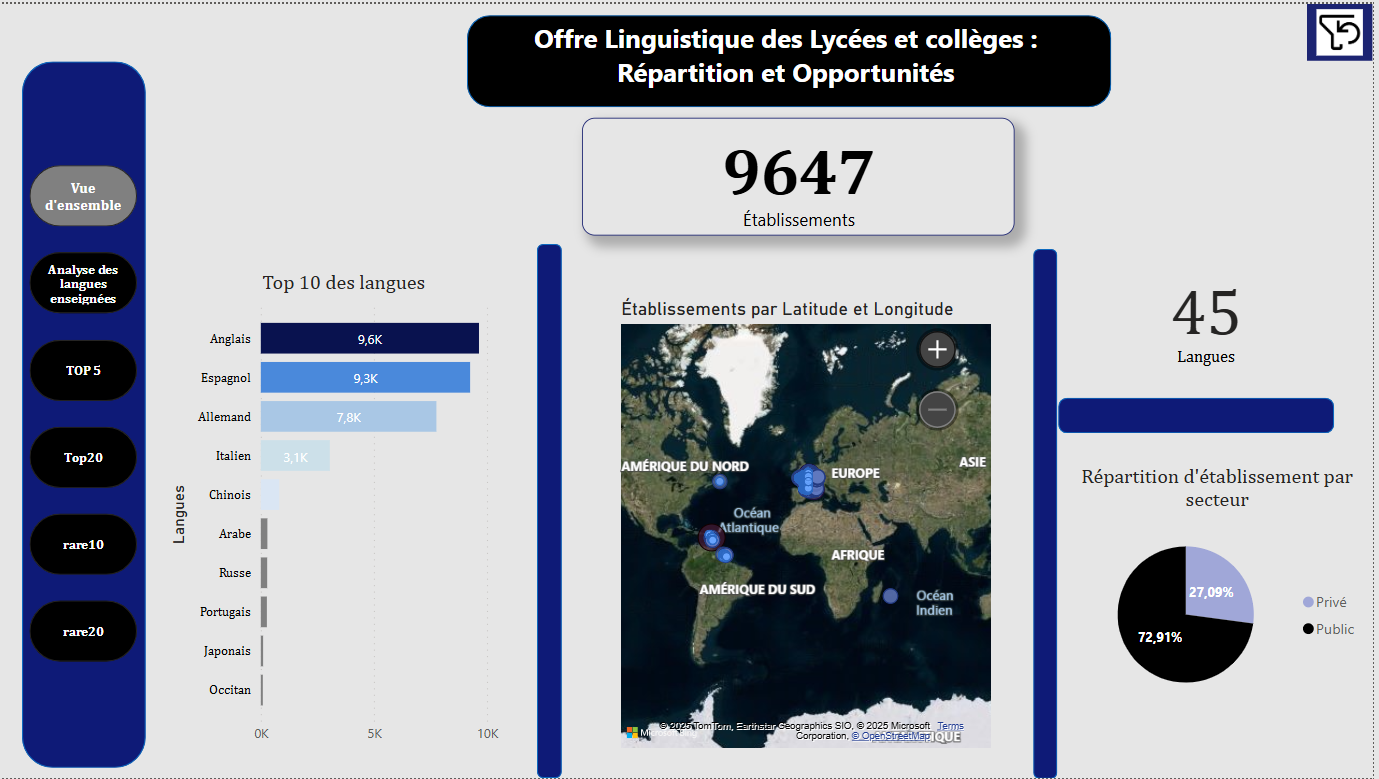

Layout of this report page (visuals, bound fields, positions):
{"tool":"powerbi","page":{"name":"Vue d'ensemble","canvas":[1280,720],"ordinal":0},"visuals":[{"type":"card","fields":{"Values":["Feuil1 (2).Établissements"]},"box":[544.4,106,402.4,109.8],"z":0},{"type":"card","fields":{"Values":["Etab_Lang_Count.NB_langues"]},"box":[1030.4,237.2,189.6,106],"z":1000},{"type":"pieChart","title":"Répartition d''établissement par secteur","fields":{"Y":["Feuil1 (2).Nombre__Privé","Feuil1 (2).Nombre_Etablissements_Publics"]},"box":[992.5,427.7,283.8,237.2],"z":2000},{"type":"clusteredBarChart","title":"Top 10 des langues ","fields":{"Category":["Feuil1 (2).Langues"],"Y":["Feuil1 (2).NB-etab-lang2"]},"box":[155.5,247.9,333.4,449.1],"z":3000},{"type":"map","fields":{"X":["Feuil1 (2).Longitude"],"Y":["Feuil1 (2).Latitude"],"Size":["Feuil1 (2).Établissements"]},"box":[575.5,273.1,353.8,423.8],"z":4000},{"type":"shape","box":[23.7,53,115.1,657.1],"z":5000,"group":"g1"},{"type":"shape","box":[437.2,10.1,599.4,85.6],"z":5000},{"type":"shape","box":[502.1,223.2,23,496.8],"z":6000},{"type":"shape","box":[964.3,227.5,22.4,492.8],"z":7000},{"type":"textbox","box":[437.4,10.7,593,85.5],"z":8000},{"type":"group","id":"g1","title":"Groupe 1","box":[23.7,53,114.9,656.9],"z":9000},{"type":"shape","box":[986.6,366.5,256.6,33],"z":10000},{"type":"image","box":[1219.2,0,60.8,53],"z":11000},{"type":"pageNavigator","title":"MENU","box":[30.6,149.6,100.1,463.7],"z":11000,"group":"g1"}]}

Visuals, with their boxes in screenshot pixels (x1, y1, x2, y2), scaled from the page's 1280x720 canvas onto the 1379x779 screenshot:
card - Feuil1 (2).Établissements: {"x1": 587, "y1": 115, "x2": 1020, "y2": 233}
card - Etab_Lang_Count.NB_langues: {"x1": 1110, "y1": 257, "x2": 1314, "y2": 371}
"Répartition d''établissement par secteur" pieChart: {"x1": 1069, "y1": 463, "x2": 1375, "y2": 719}
"Top 10 des langues " clusteredBarChart: {"x1": 168, "y1": 268, "x2": 527, "y2": 754}
map - Feuil1 (2).Longitude x Feuil1 (2).Latitude: {"x1": 620, "y1": 295, "x2": 1001, "y2": 754}
shape: {"x1": 26, "y1": 57, "x2": 150, "y2": 768}
shape: {"x1": 471, "y1": 11, "x2": 1117, "y2": 104}
shape: {"x1": 541, "y1": 241, "x2": 566, "y2": 778}
shape: {"x1": 1039, "y1": 246, "x2": 1063, "y2": 778}
textbox: {"x1": 471, "y1": 12, "x2": 1110, "y2": 104}
"Groupe 1" group: {"x1": 26, "y1": 57, "x2": 149, "y2": 768}
shape: {"x1": 1063, "y1": 397, "x2": 1339, "y2": 432}
image: {"x1": 1313, "y1": 0, "x2": 1378, "y2": 57}
"MENU" pageNavigator: {"x1": 33, "y1": 162, "x2": 141, "y2": 664}
